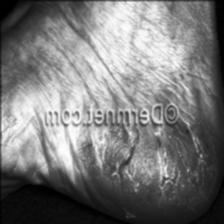Non-Cancerous Skin Condition: (0, 126, 224, 224)
